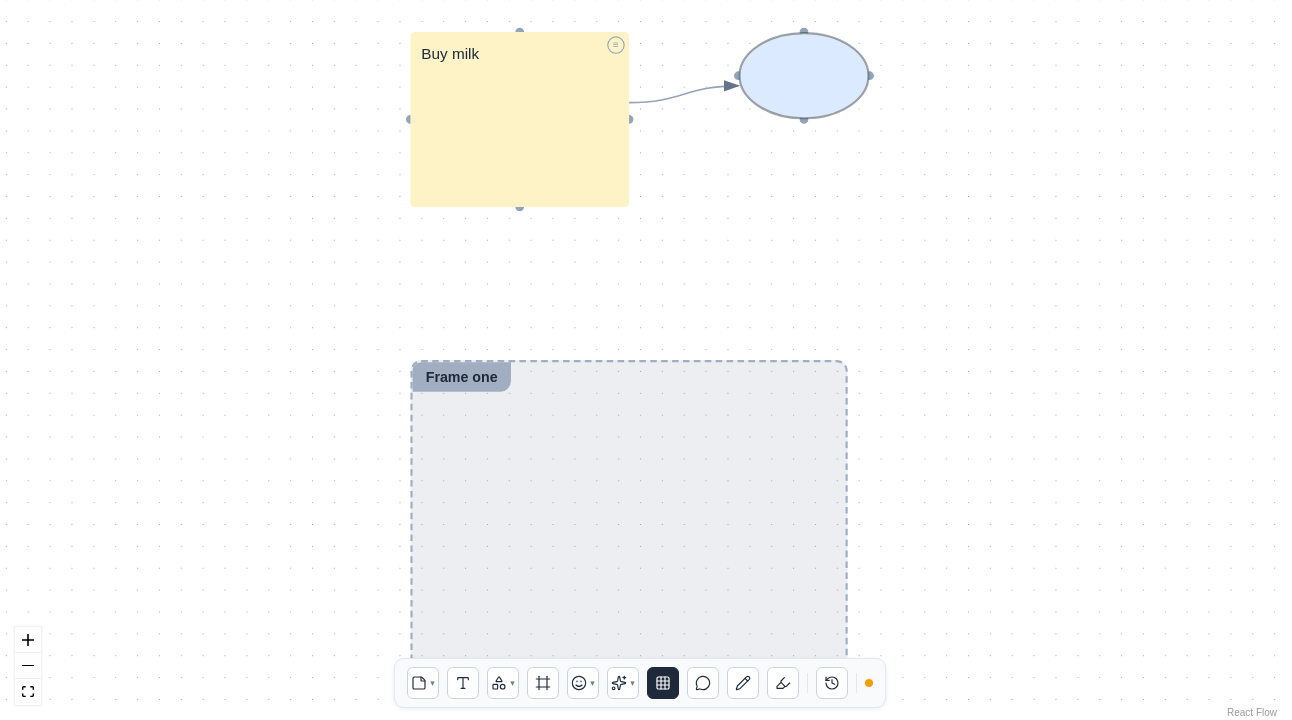
it: BoardCanvas — pencil + annotation overlays, mode exclusivity (P6-T35) › clicking pencil mode again toggles it back off
Click the button named "pencil": point(743, 683) [727, 667, 759, 699]
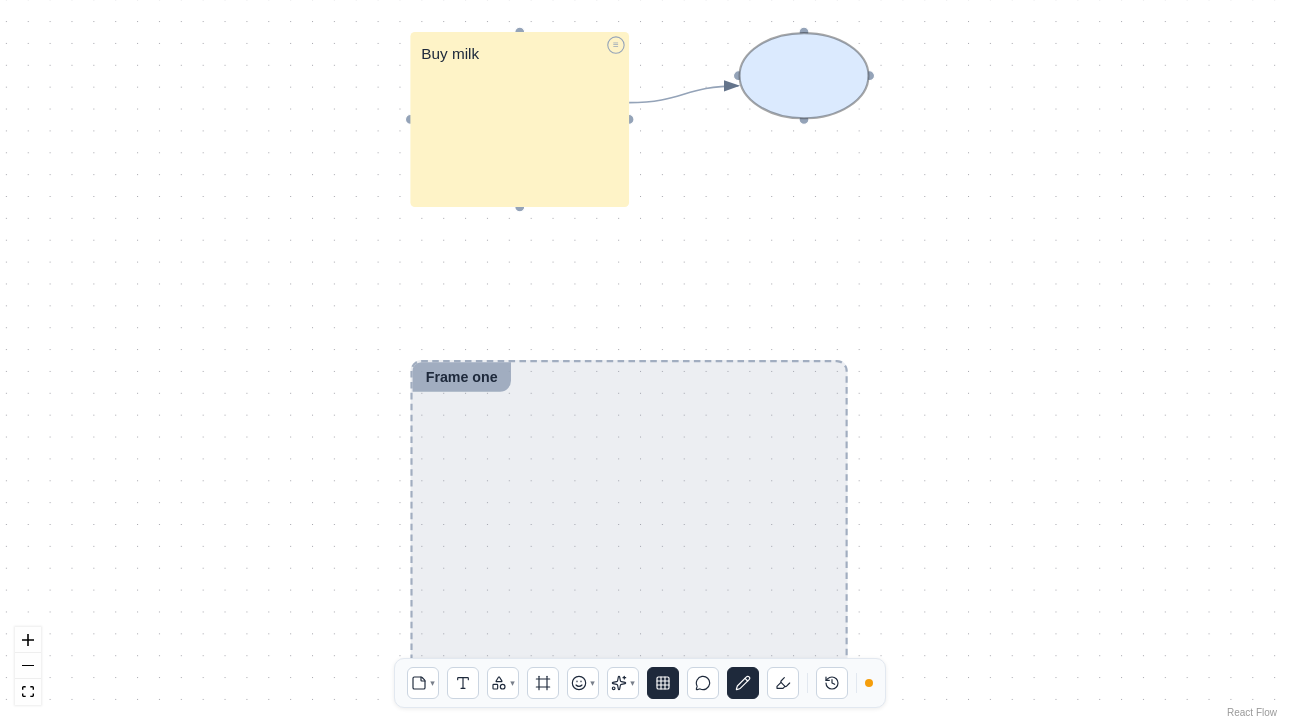
Result: the element with test id "pencil-overlay" is shown
Click the button named "pencil": point(743, 683) [727, 667, 759, 699]
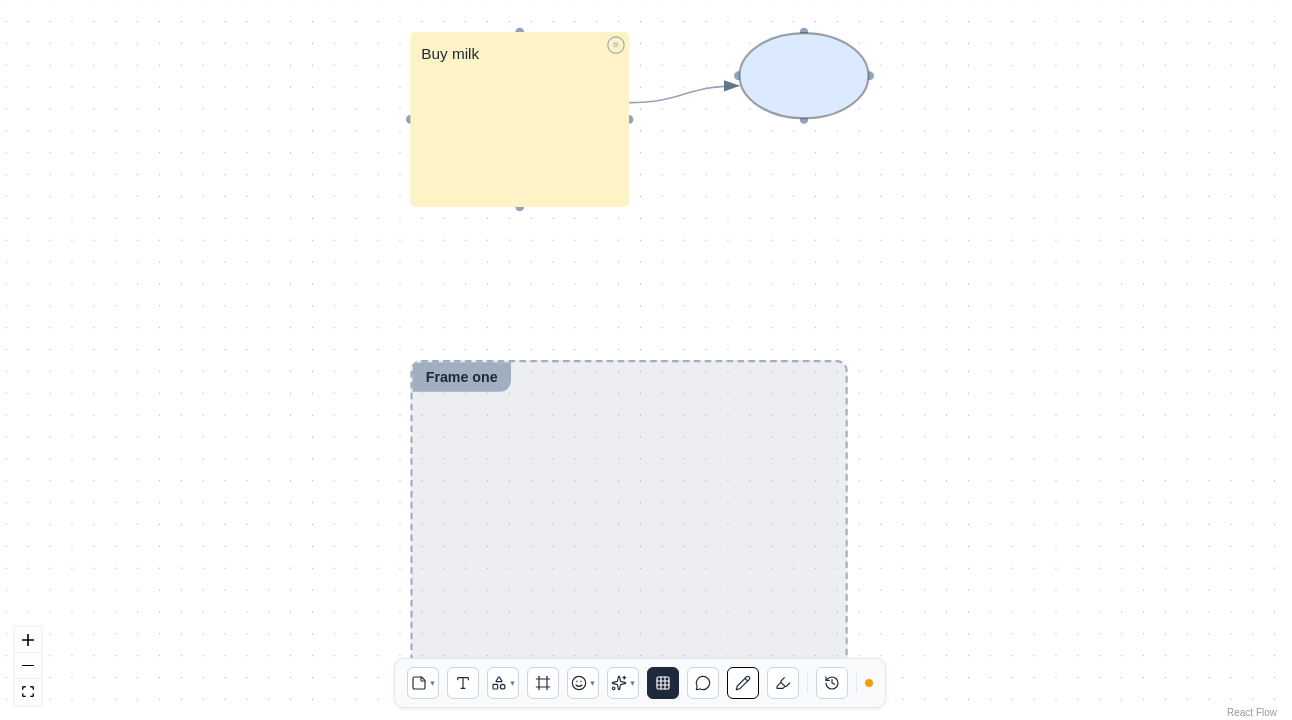
Result: the element with test id "pencil-overlay" is gone
